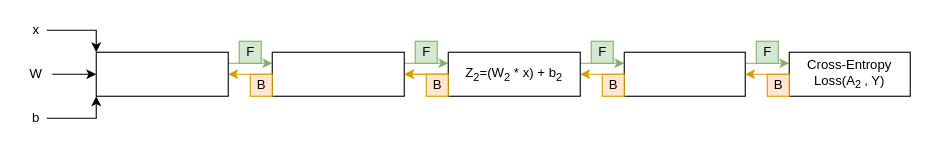
Image size: 930x147. Some labels were removed from this diagram. Here are the shapes that lost their labels. From the top down, the centre of each, then its label:
the point at 161,73: Z 1 =(W 1 * x) + b 1
the point at 337,73: A 1 = ReLu(Z 1 )
the point at 684,73: A 2 = Softmax(Z 2 )
